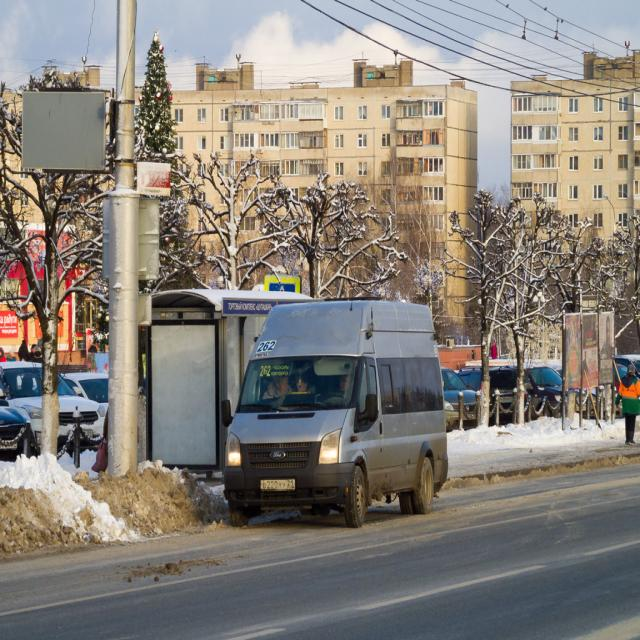number-of-bus: (257, 342, 279, 354), (260, 366, 272, 379)
